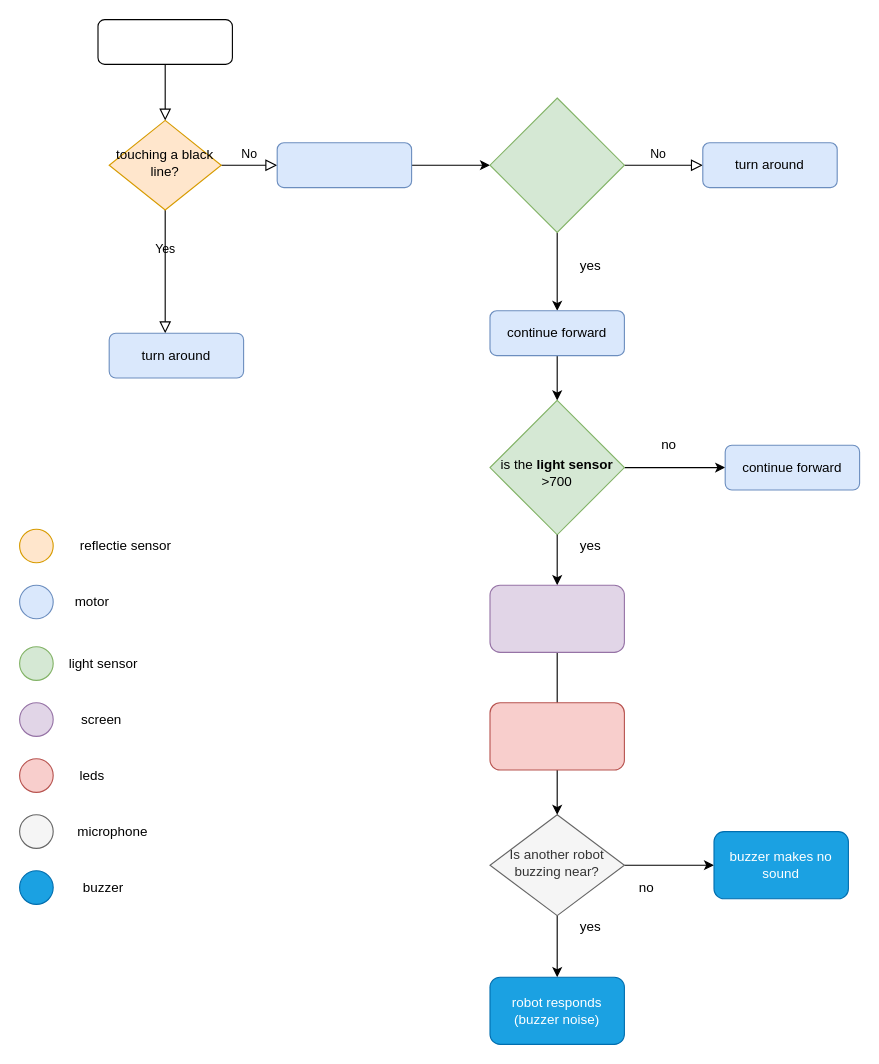
This 879x1064 diagram has some shape labels left out. The centre of each missing label's shape, as x and y in pixels:
go forward: (344,165)
is the Light sensor >=400: (556,164)
red and blue light on and off: (556,736)
robot is on: (164,41)
screen expression happy: (556,618)
